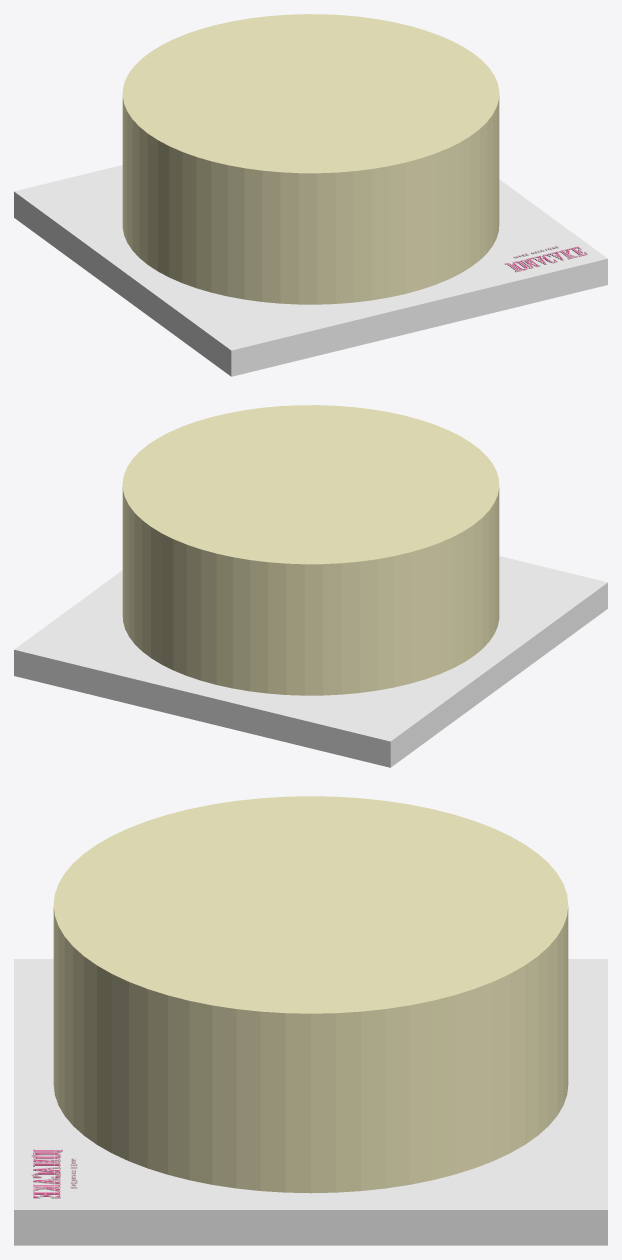
Rendered from cake_10in_layers2_v36.glb.
3 renders of one model, top to bottom at view 1: azimuth 30°, elevation 25°; view 2: azimuth 150°, elevation 25°; view 3: azimuth 270°, elevation 25°, orthographic. The views are drawn at different scales.
Visible parts, largest first — view 1: Cake, Board, Logo; view 2: Cake, Board; view 3: Cake, Board, Logo.
Part boxes in pixels (x1,y1,x2,y2): Cake: (122,14,499,304); Board: (14,165,607,376); Logo: (504,245,587,272); Cake: (122,405,499,695); Board: (14,556,607,767); Cake: (53,796,568,1193); Board: (14,959,607,1245); Logo: (31,1149,77,1198).
Bounding box in the file's own units: 0.3 × 0.12 × 0.3.
